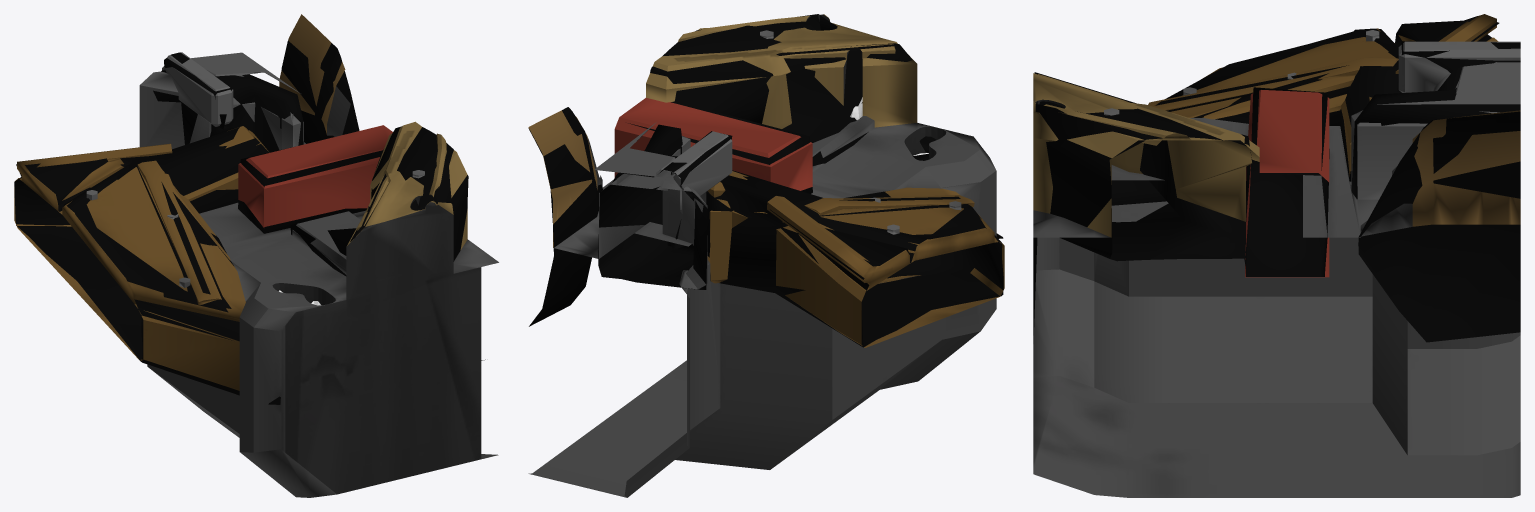
Rendered from newsh4-50-d.glb.
The picture shows the model from 3 angles, left to right: view 1: azimuth 30°, elevation 25°; view 2: azimuth 150°, elevation 25°; view 3: azimuth 270°, elevation 25°; orthographic projection. The views are drawn at different scales.
Parts seen in each view (by area): view 1: newsh4-50, newsh4-50_outline; view 2: newsh4-50, newsh4-50_outline; view 3: newsh4-50, newsh4-50_outline.
Boxes of the visible parts, x1,y1,x2,y2 form: newsh4-50: [14, 14, 498, 497]; newsh4-50_outline: [14, 40, 485, 404]; newsh4-50: [528, 14, 1004, 497]; newsh4-50_outline: [528, 14, 1003, 347]; newsh4-50: [1033, 14, 1520, 497]; newsh4-50_outline: [1033, 16, 1520, 343].
Size of the model in its own units: 2 by 2.05 by 2.33.
Materials: 18 (17 with a texture image).
